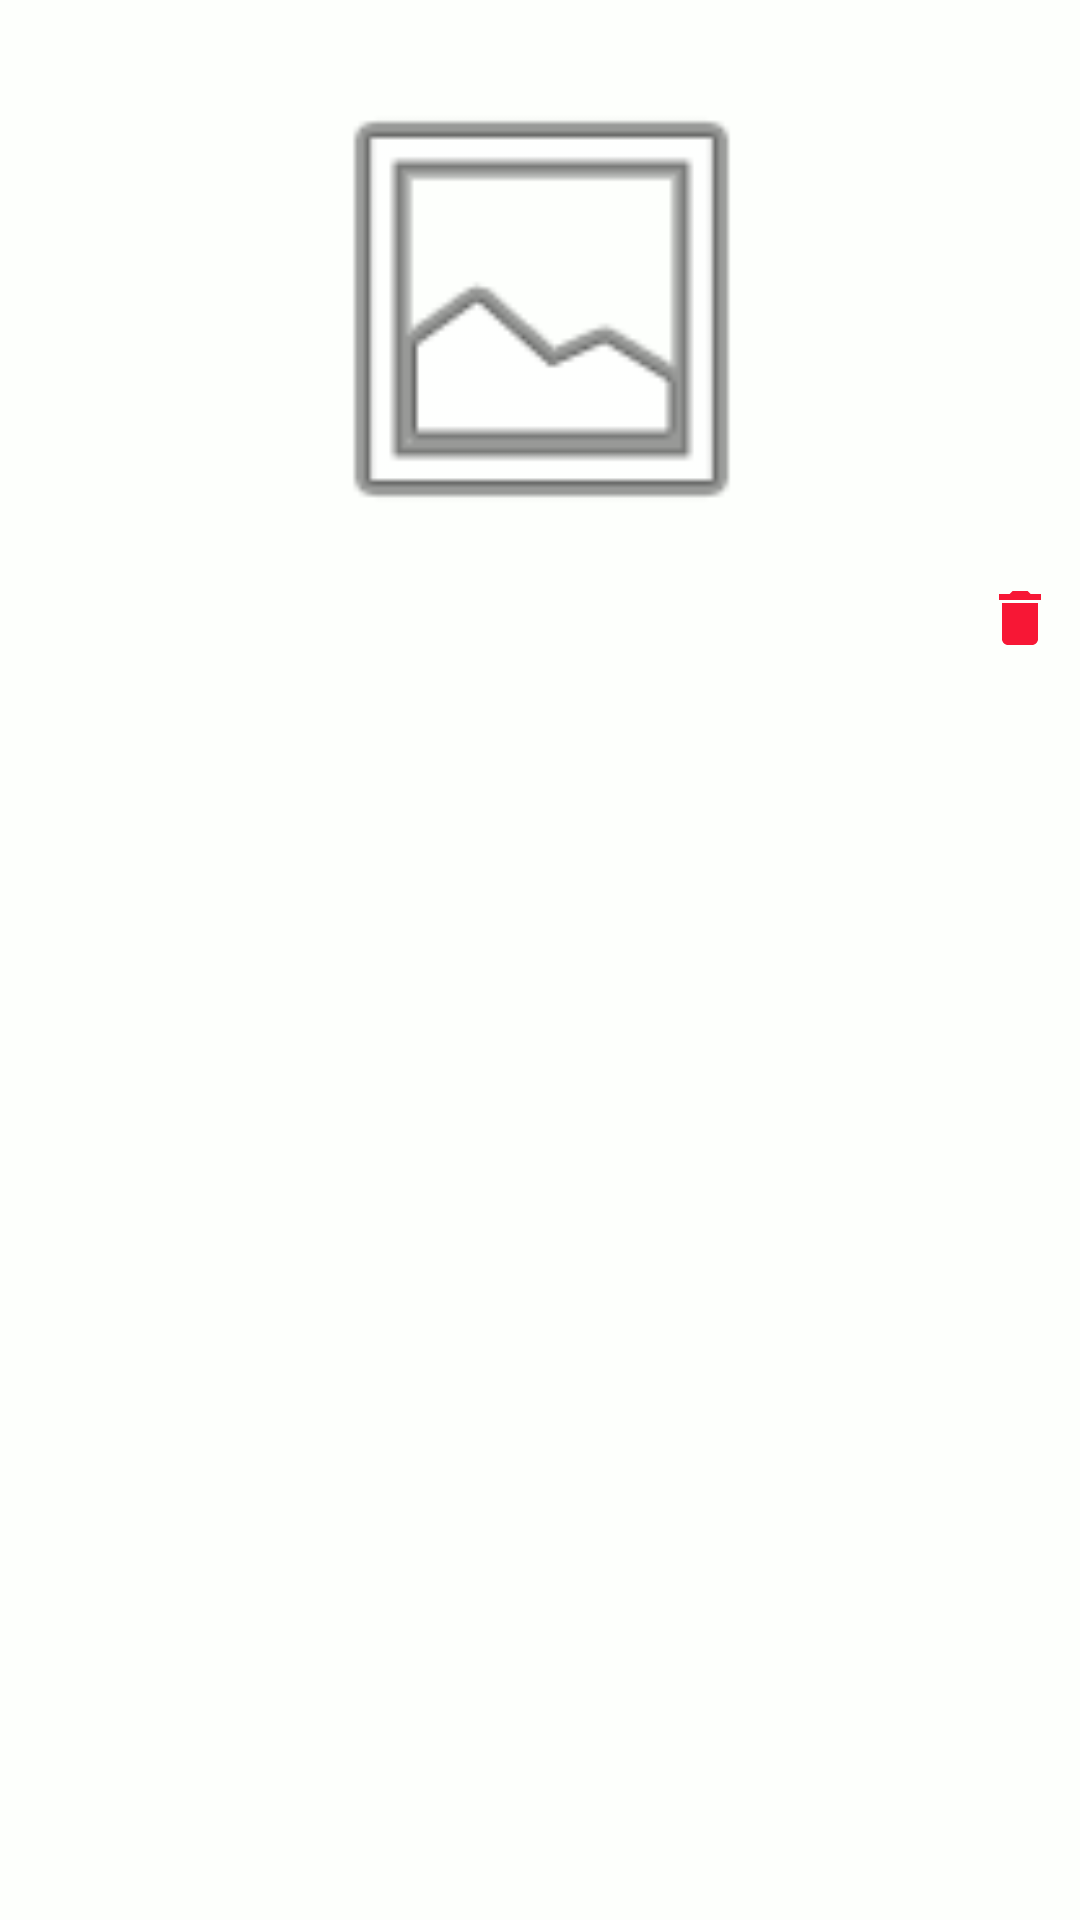

Named icons in this screenshot (1080 x 1920) and their centers, (x,y):
delete icon: (1020,618)
